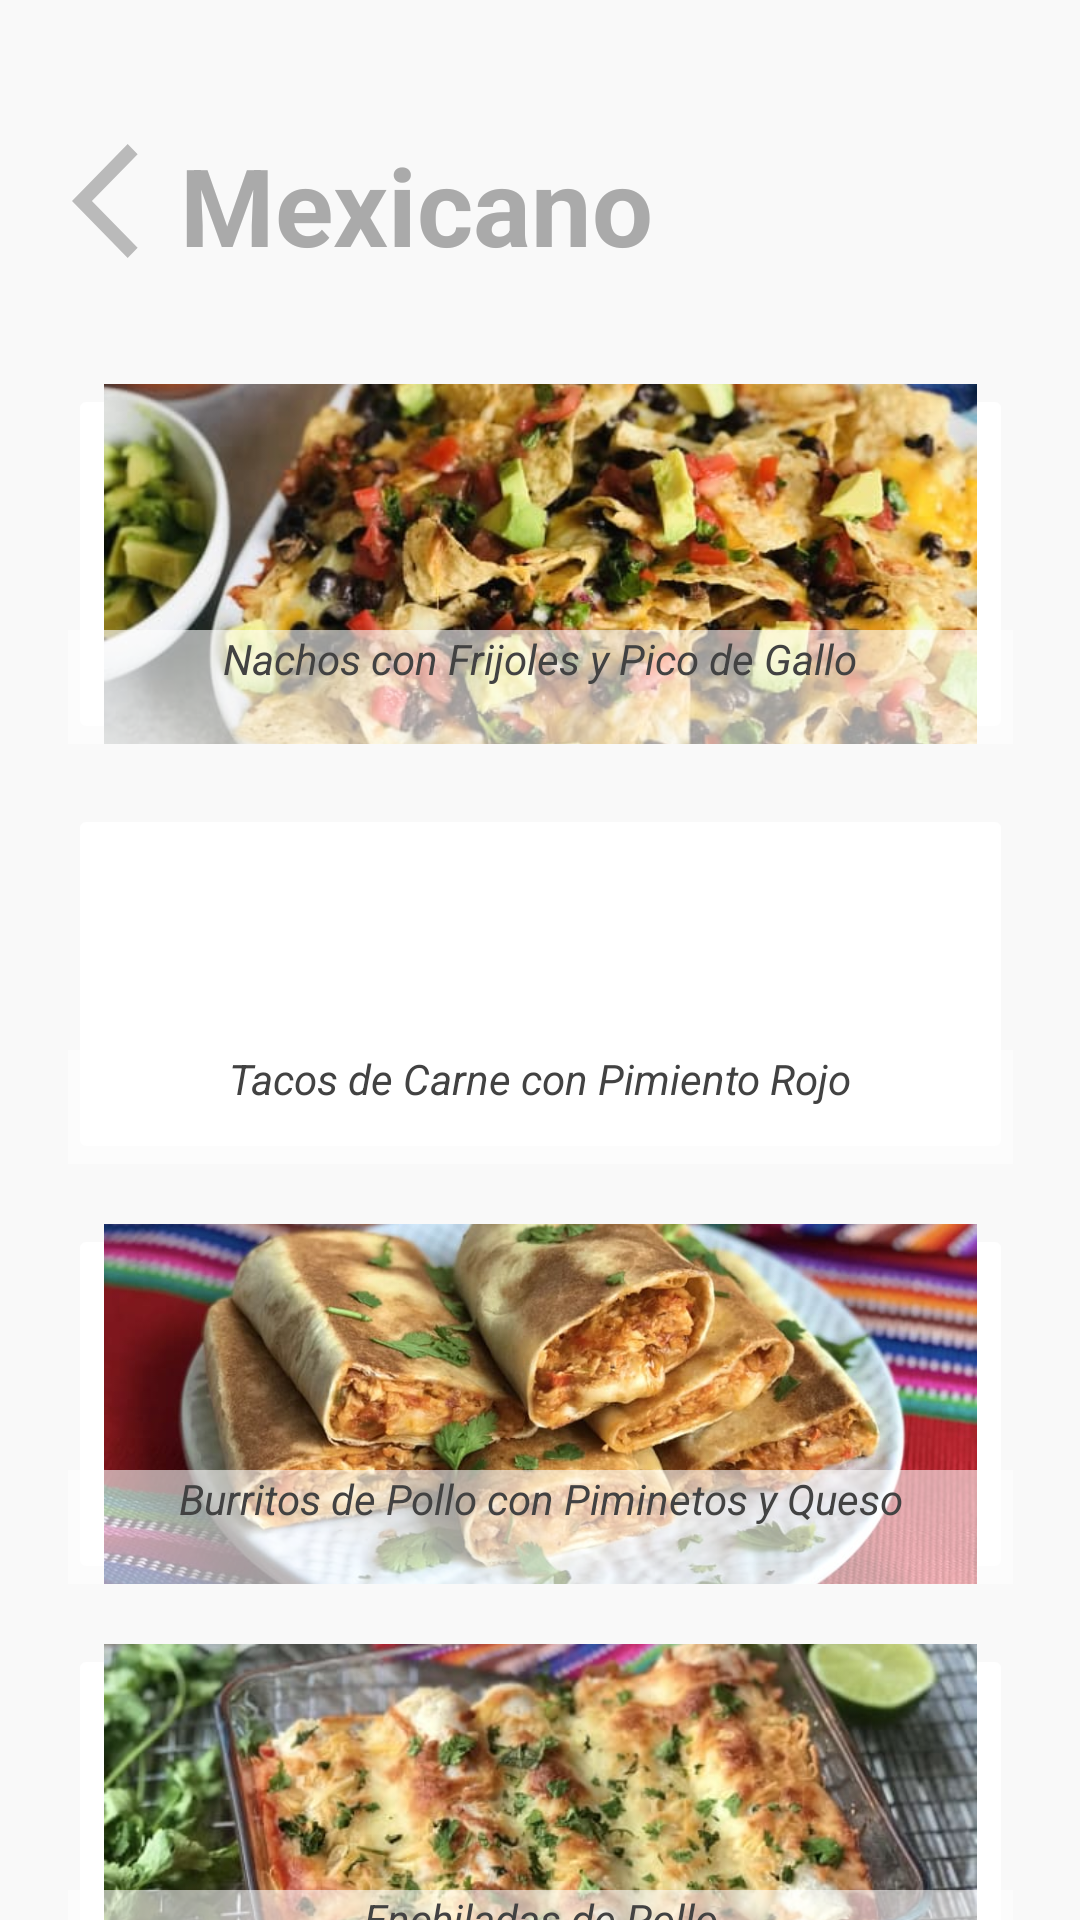

Icons on this 1080*1920 Android screen, each with the point to tap as point (x, y):
flecha: point (104, 201)
